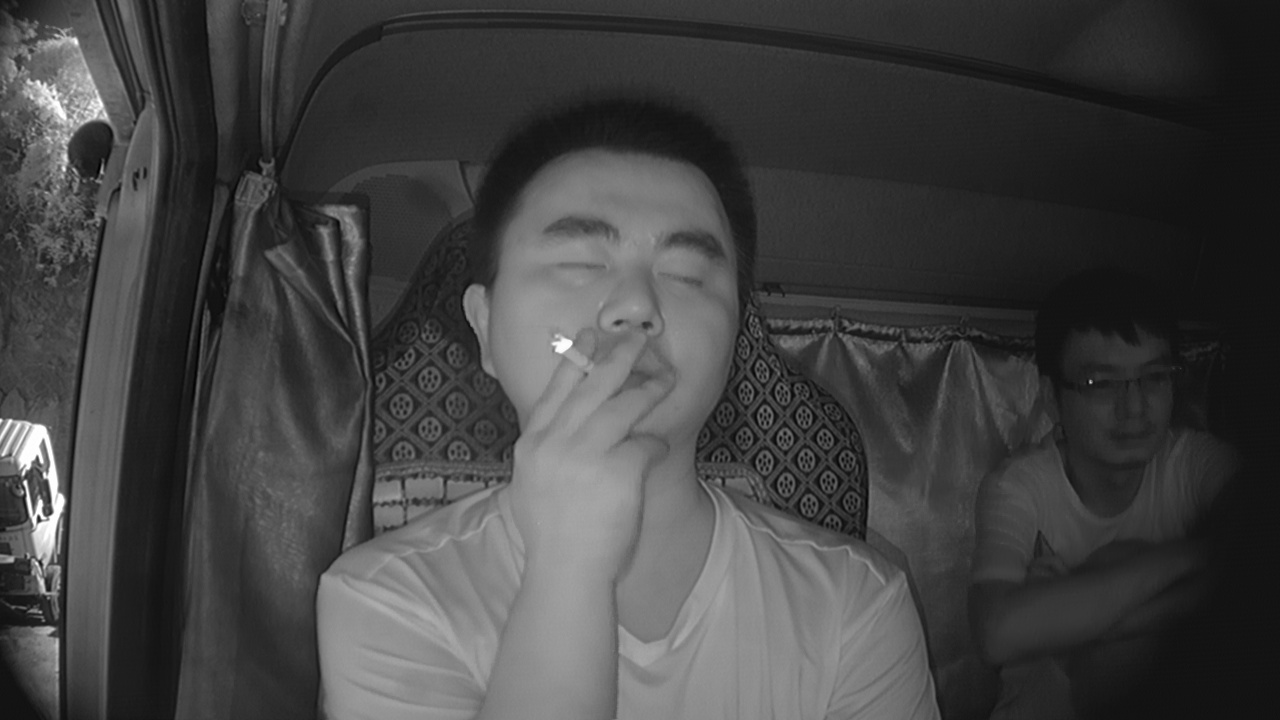hand: (524, 328, 671, 493)
